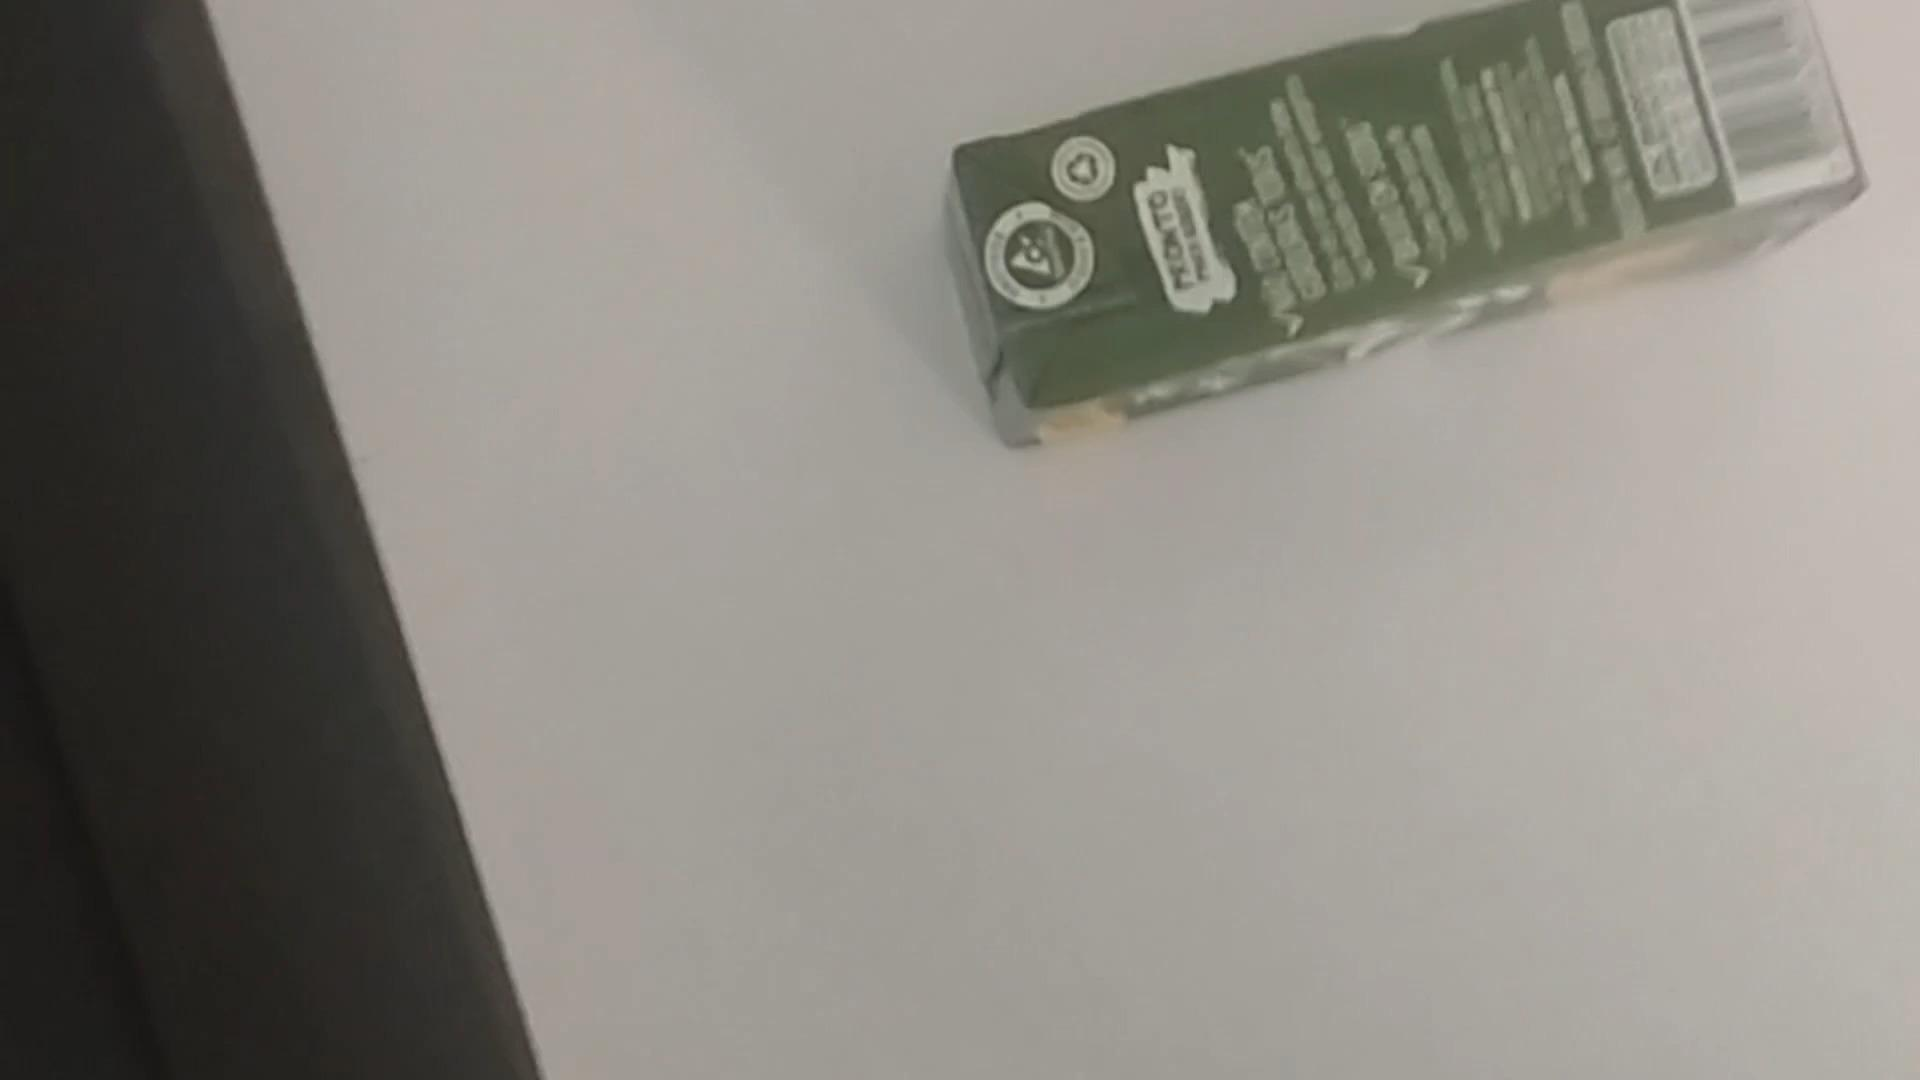coco: (932, 0, 1870, 468)
